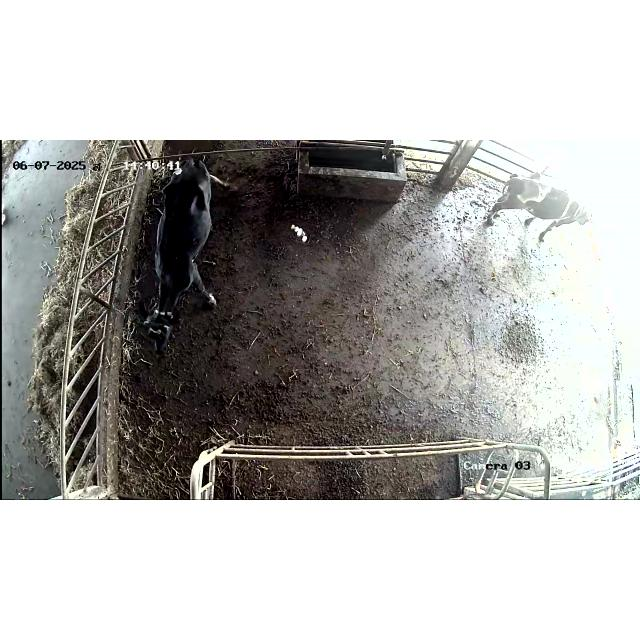stand: (136, 153, 244, 363), (482, 163, 604, 251)
